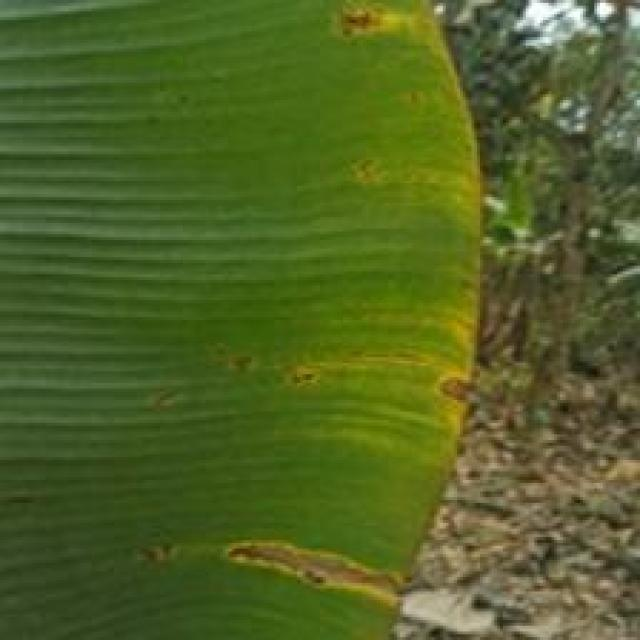Downey_mildrew: (209, 4, 484, 640), (119, 517, 197, 582)
